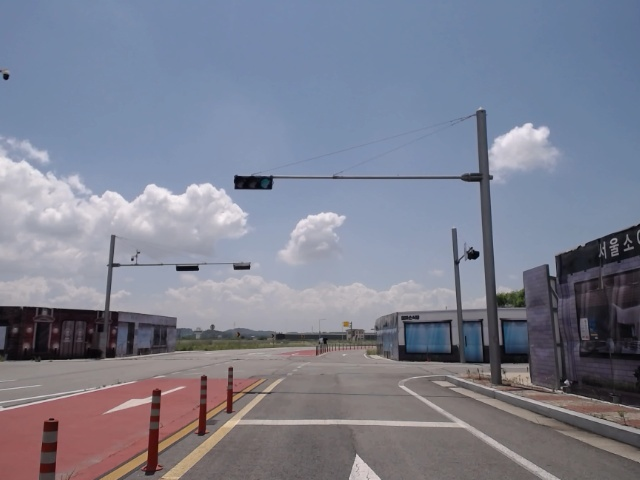green_3: (235, 176, 272, 189)
